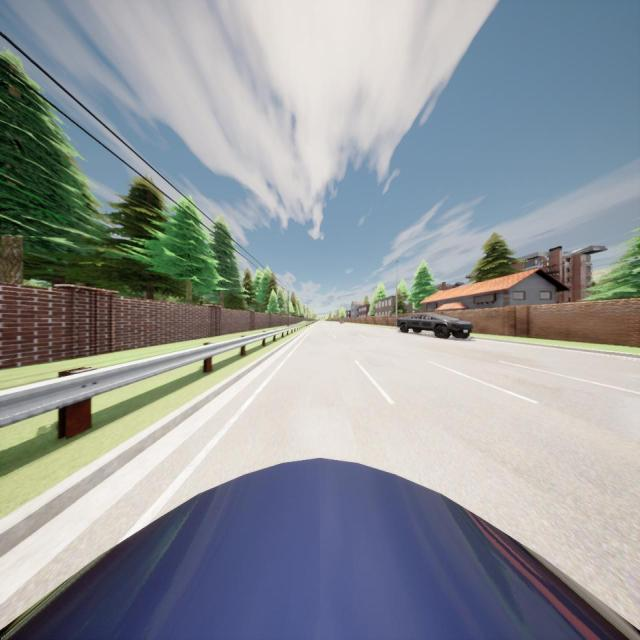Vehicle: (0, 455, 640, 640), (397, 314, 472, 339)
